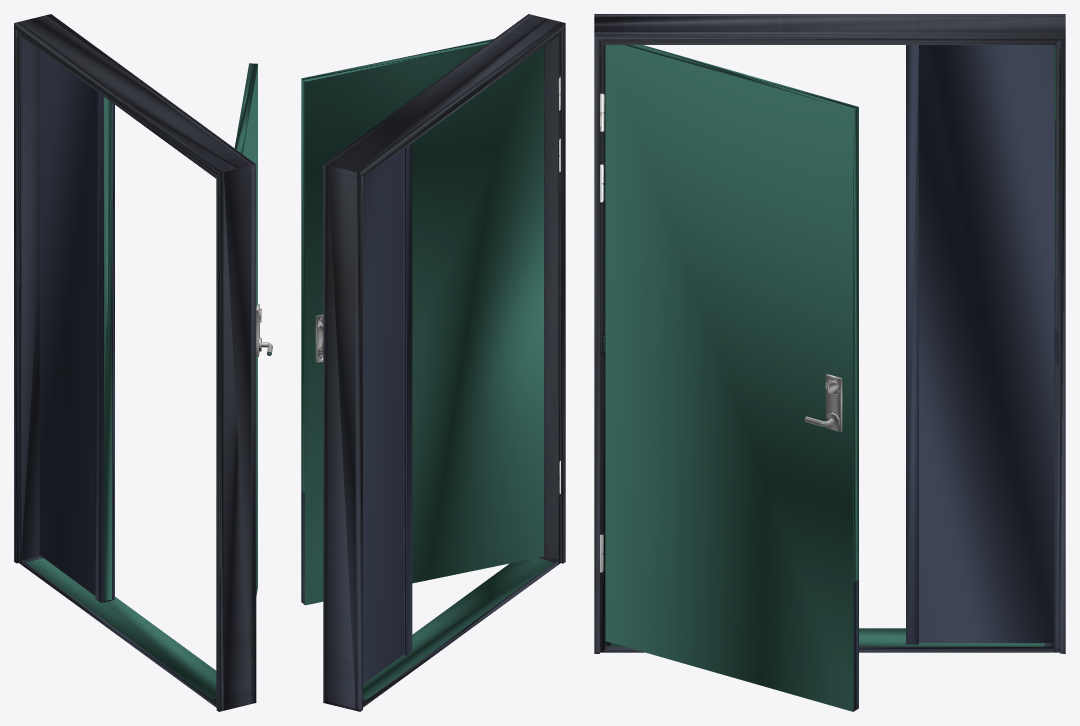
Rendered from TELLUS_arena_SMALL_DOOR_008.FBX.
3 views of the same model, side by side, from view 1: azimuth 30°, elevation 25°; view 2: azimuth 150°, elevation 25°; view 3: azimuth 270°, elevation 25° (orthographic). The views are drawn at different scales.
Visible parts, largest first — view 1: TELLUS_arena_SMALL_DOOR_008; view 2: TELLUS_arena_SMALL_DOOR_008; view 3: TELLUS_arena_SMALL_DOOR_008.
Boxes of the visible parts, x1,y1,x2,y2 form: TELLUS_arena_SMALL_DOOR_008: [14, 14, 272, 711]; TELLUS_arena_SMALL_DOOR_008: [301, 14, 565, 711]; TELLUS_arena_SMALL_DOOR_008: [594, 14, 1065, 711].
Size of the model in its own units: 64.86 by 150 by 218.
